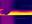Hotspot: (8, 11, 31, 15)
